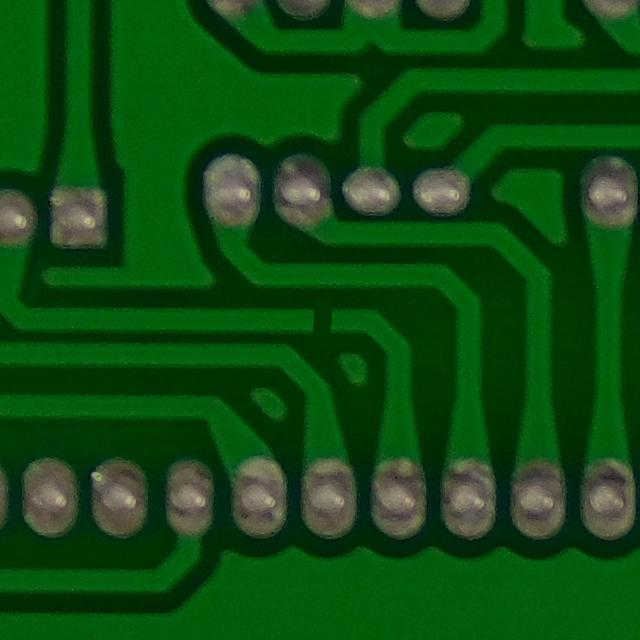open_circuit: (298, 295, 343, 345)
